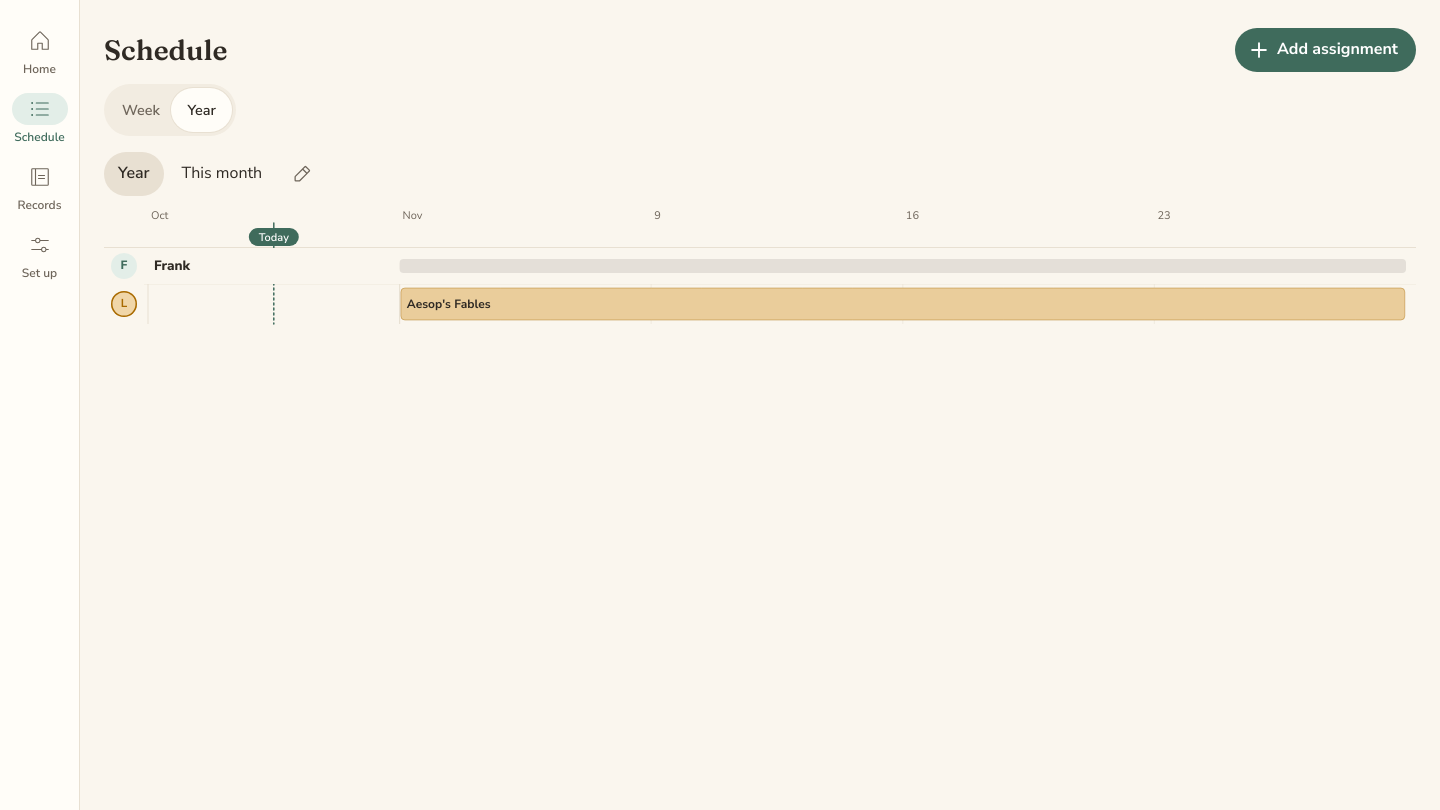
Test: a view with no plan, and an empty month (S7b-07) › This month with nothing planned that month says so under the axis
Expected: the picture named "Year timeline" is shown, [104,204,1416,332]
Expected: the text "Nothing planned this month." is not shown
Step 1. Click the button "This month" → coordinates (222, 174), box [168,152,276,196]
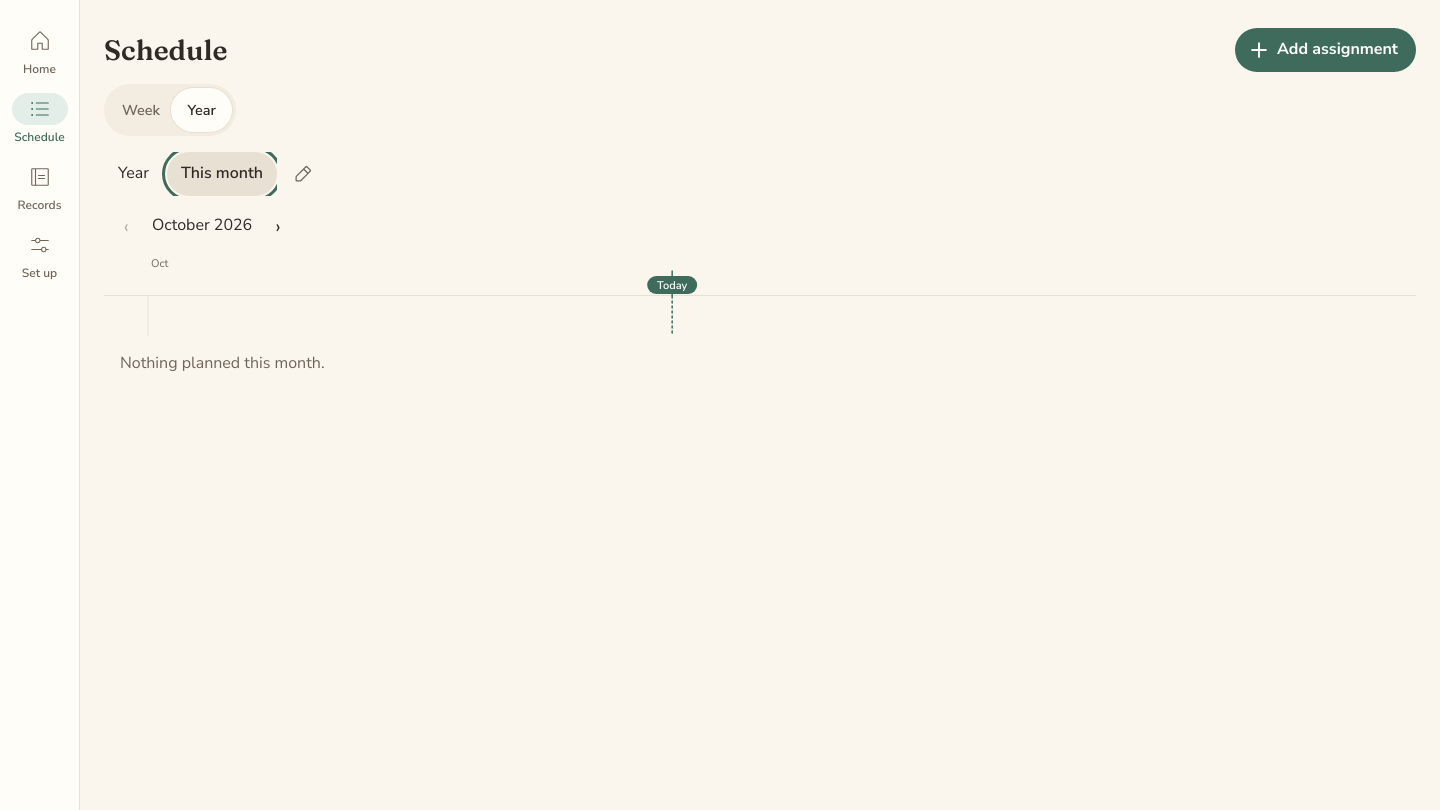
Result: the text "Nothing planned this month." is shown at [120,352,324,374]
# Next month has work: the line goes.
Step 2. Click the button named "Next month" → coordinates (278, 226), box [256,204,300,248]
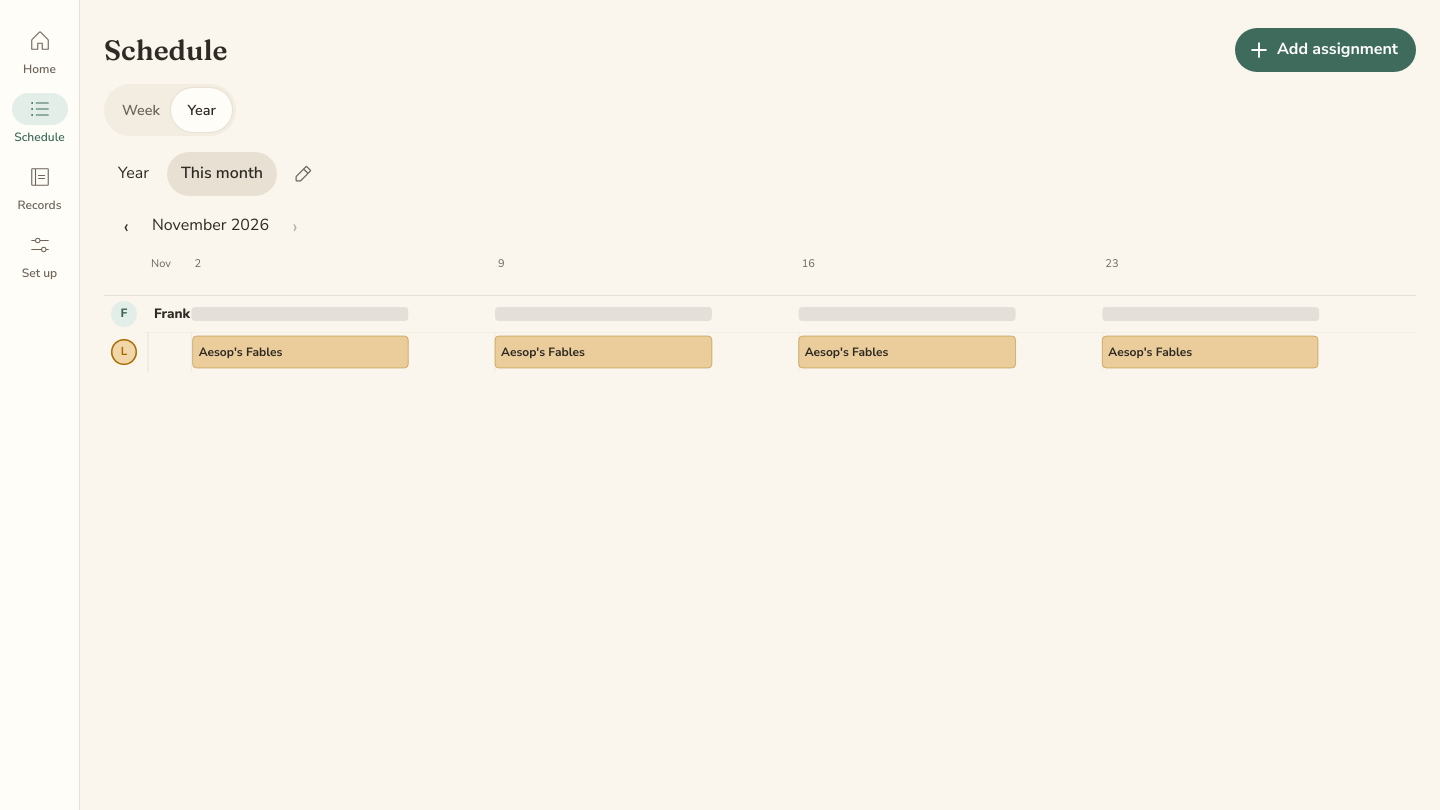
Result: the text "Nothing planned this month." is gone
